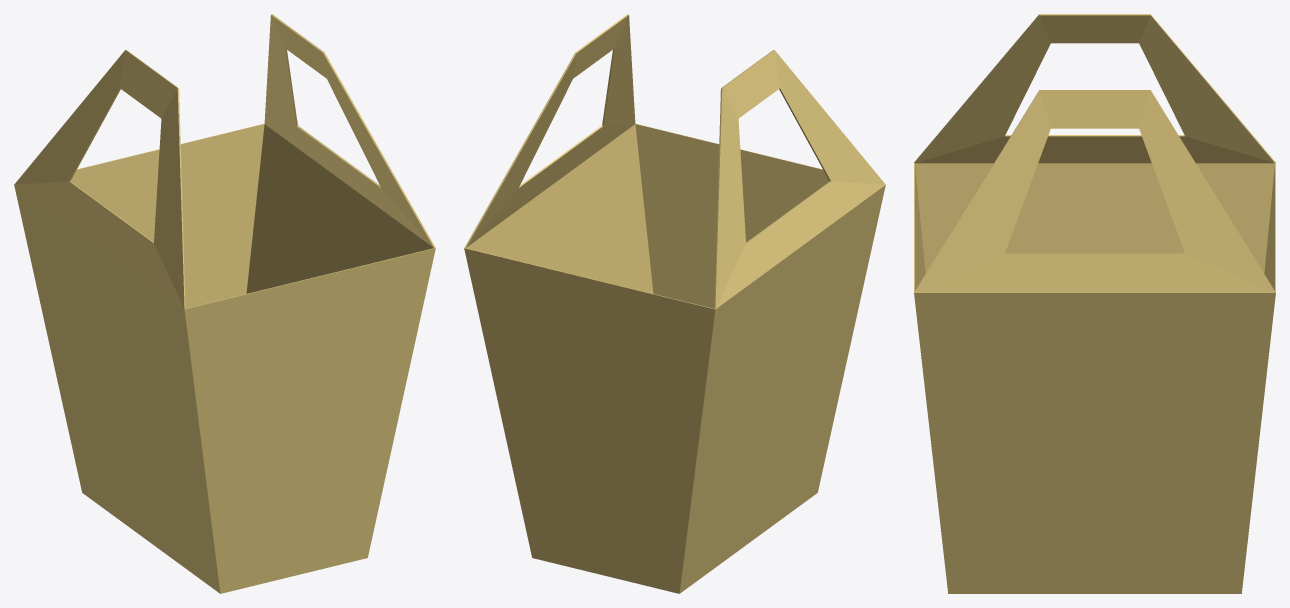
File: KantongBelanja.fbx
3 renders of one model, left to right at view 1: azimuth 30°, elevation 25°; view 2: azimuth 150°, elevation 25°; view 3: azimuth 270°, elevation 25°, orthographic. The views are drawn at different scales.
Visible parts, largest first — view 1: Cube; view 2: Cube; view 3: Cube.
Part boxes in pixels (x1=…): Cube: x1=14, y1=14, x2=435, y2=593; Cube: x1=464, y1=14, x2=885, y2=593; Cube: x1=914, y1=14, x2=1275, y2=593.
Bounding box in the file's own units: 170 × 307 × 200.
